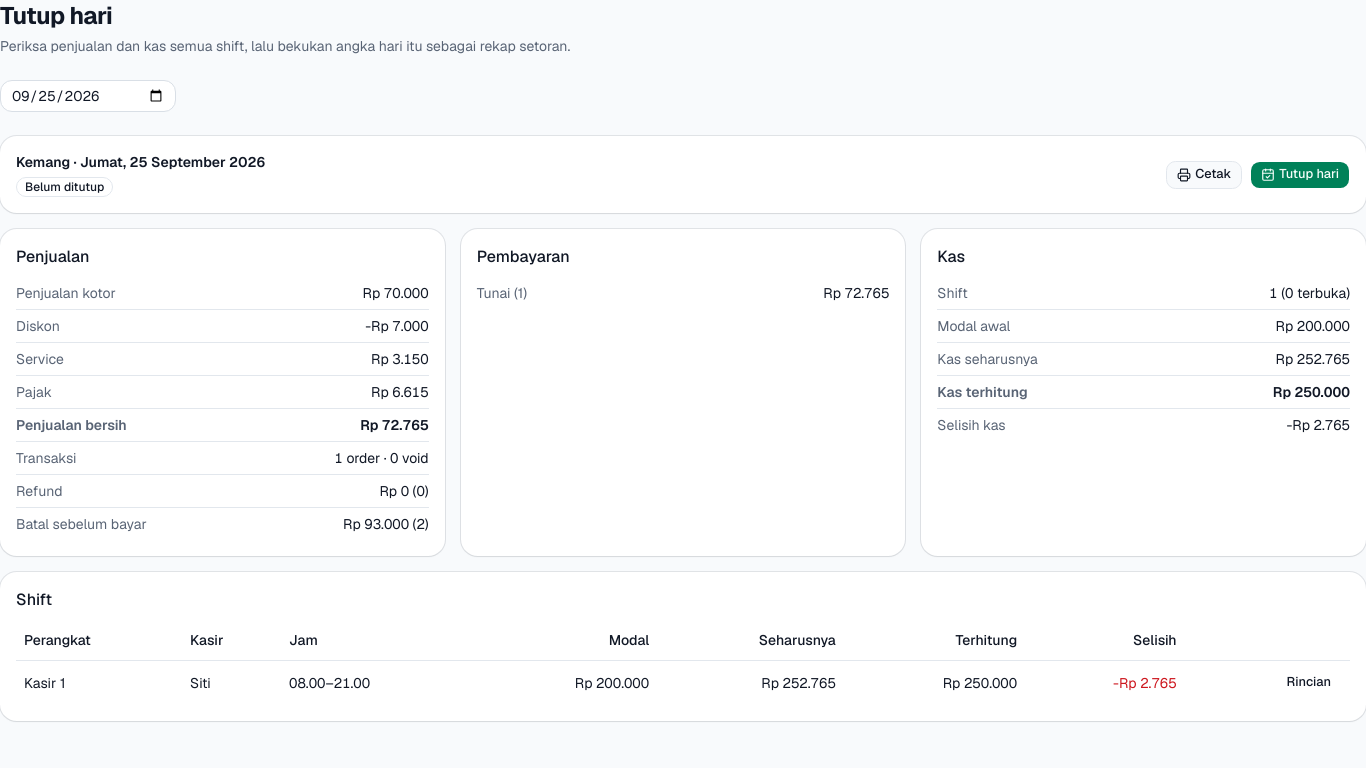
Test: DayClosingScreen › shows a blind-close count per denomination for a closed shift (15 · UX-02)
The width and height of the screenshot is (1366, 768).
Step 1. Click the button with aria-label "Rincian shift Kasir 1" → click(1309, 682), box x1=1276 y1=668 x2=1342 y2=696
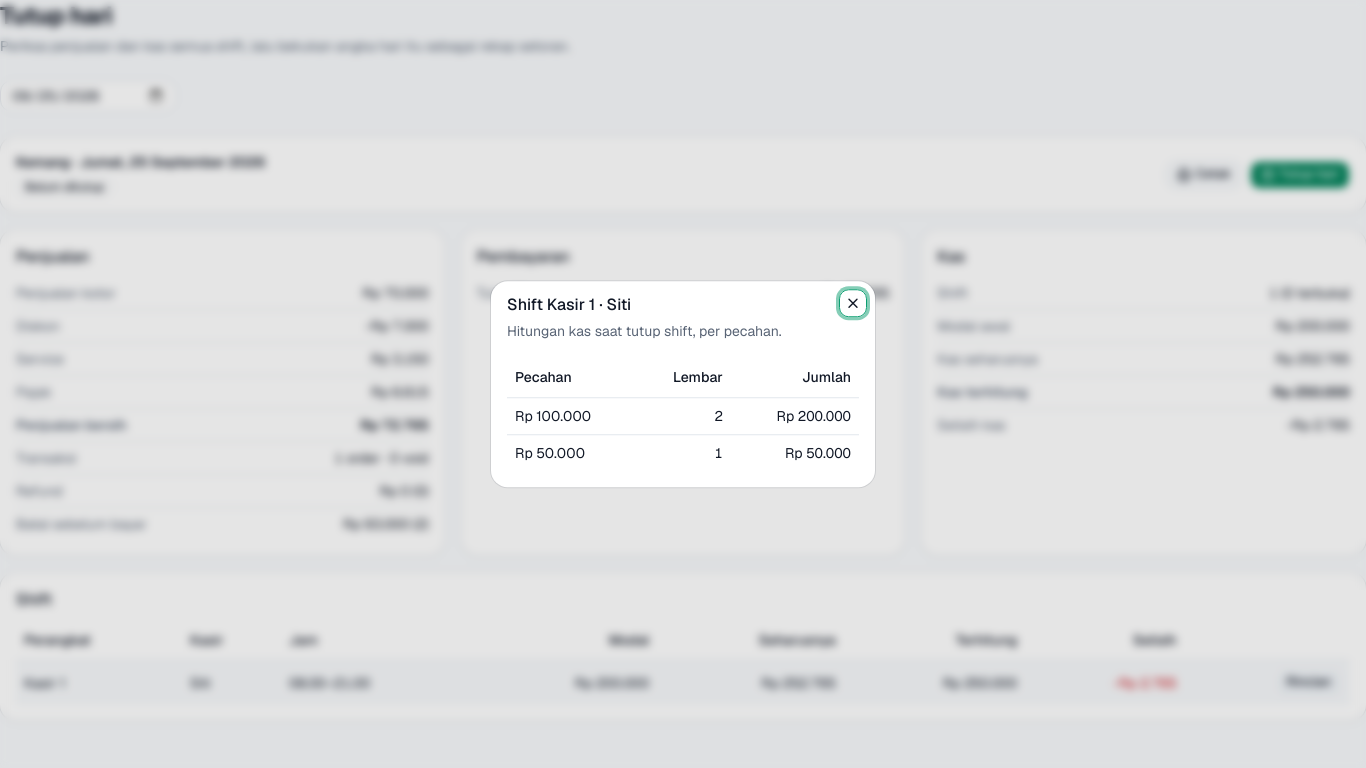
Expected: the row "Rp 100.000 2 Rp 200.000" is shown, x1=507 y1=397 x2=859 y2=434
Expected: the row "Rp 50.000 1 Rp 50.000" is shown, x1=507 y1=434 x2=859 y2=471
